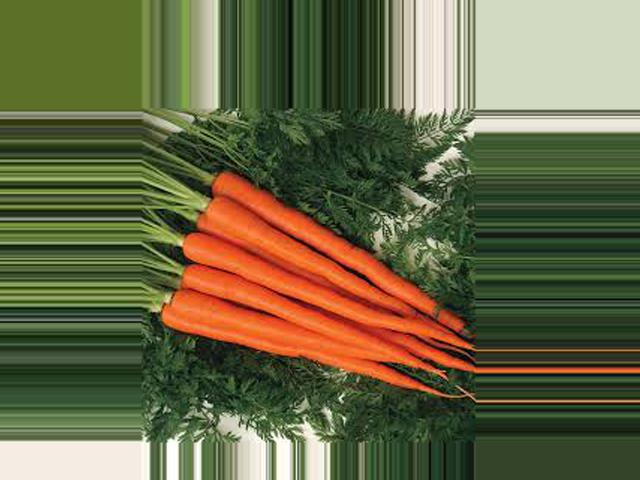carrot: (153, 288, 459, 407)
